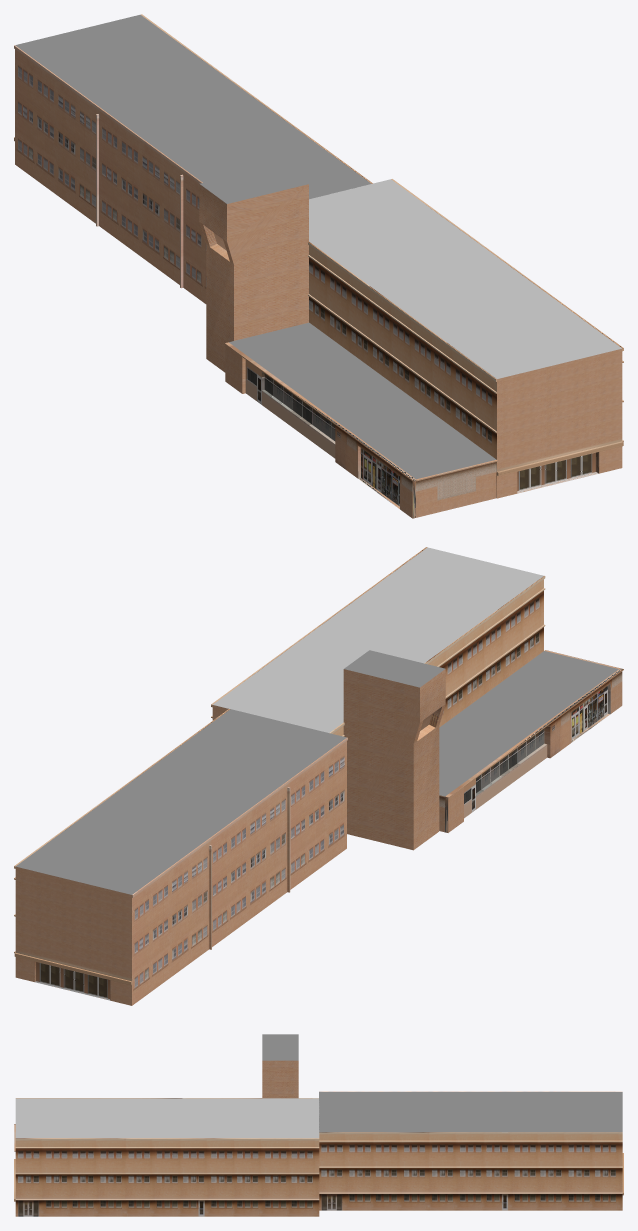
The model's file is Wilsonhall.FBX.
The picture shows the model from 3 angles, top to bottom: view 1: azimuth 30°, elevation 25°; view 2: azimuth 150°, elevation 25°; view 3: azimuth 270°, elevation 25°; orthographic projection. The views are drawn at different scales.
Parts seen in each view (by area): view 1: Box002, Box005, Box003, Box004; view 2: Box005, Box002, Box004, Box003; view 3: Box005, Box002, Box004.
Boxes of the visible parts, x1=… form: Box002: x1=308, y1=179, x2=623, y2=498; Box005: x1=14, y1=14, x2=372, y2=303; Box003: x1=224, y1=322, x2=497, y2=518; Box004: x1=199, y1=164, x2=308, y2=372; Box005: x1=14, y1=709, x2=347, y2=1005; Box002: x1=211, y1=547, x2=545, y2=736; Box004: x1=343, y1=650, x2=445, y2=850; Box003: x1=439, y1=650, x2=623, y2=832; Box005: x1=319, y1=1091, x2=623, y2=1210; Box002: x1=14, y1=1098, x2=319, y2=1216; Box004: x1=262, y1=1034, x2=298, y2=1098.
Size of the model in its own units: 42.25 by 33.75 by 161.
